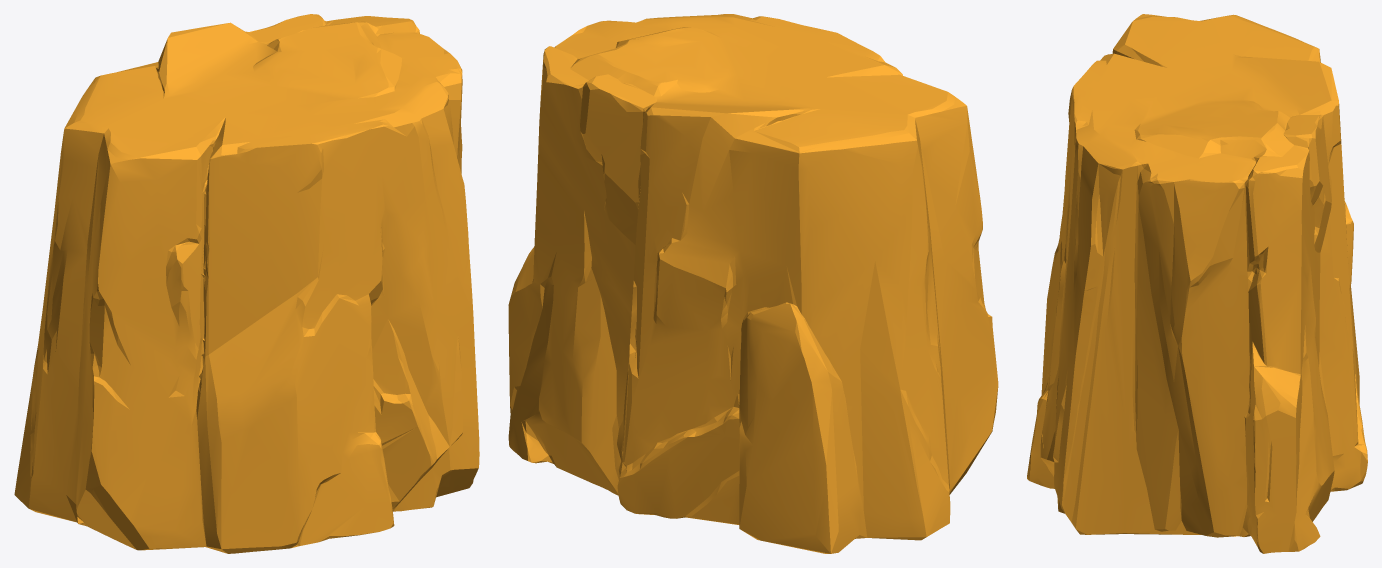
File: SM_Iceberg_Big_C.fbx
The picture shows the model from 3 angles, left to right: view 1: azimuth 30°, elevation 25°; view 2: azimuth 150°, elevation 25°; view 3: azimuth 270°, elevation 25°; orthographic projection. The views are drawn at different scales.
Visible parts, largest first — view 1: iceberg-big-c; view 2: iceberg-big-c; view 3: iceberg-big-c.
Boxes of the visible parts, box(x1,y1,x2,y2) form: iceberg-big-c: box(14, 14, 479, 553); iceberg-big-c: box(508, 14, 998, 553); iceberg-big-c: box(1027, 14, 1367, 553).
Size of the model in its own units: 26.24 by 24.3 by 19.17.
